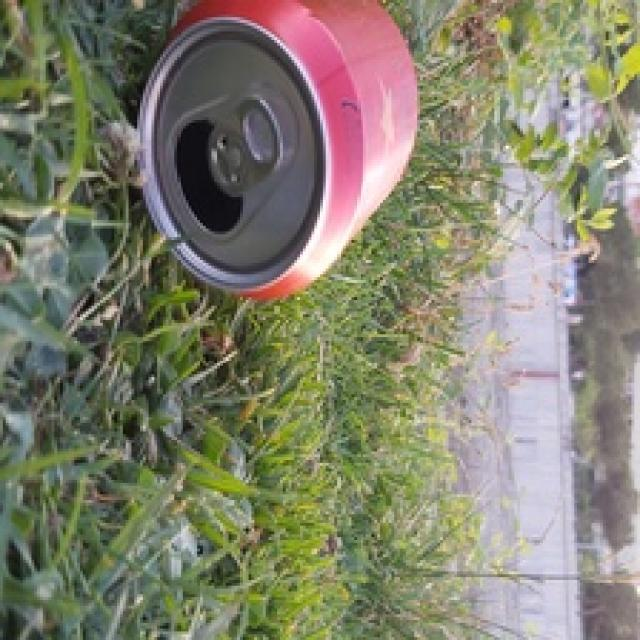recyclable: (137, 0, 420, 303)
